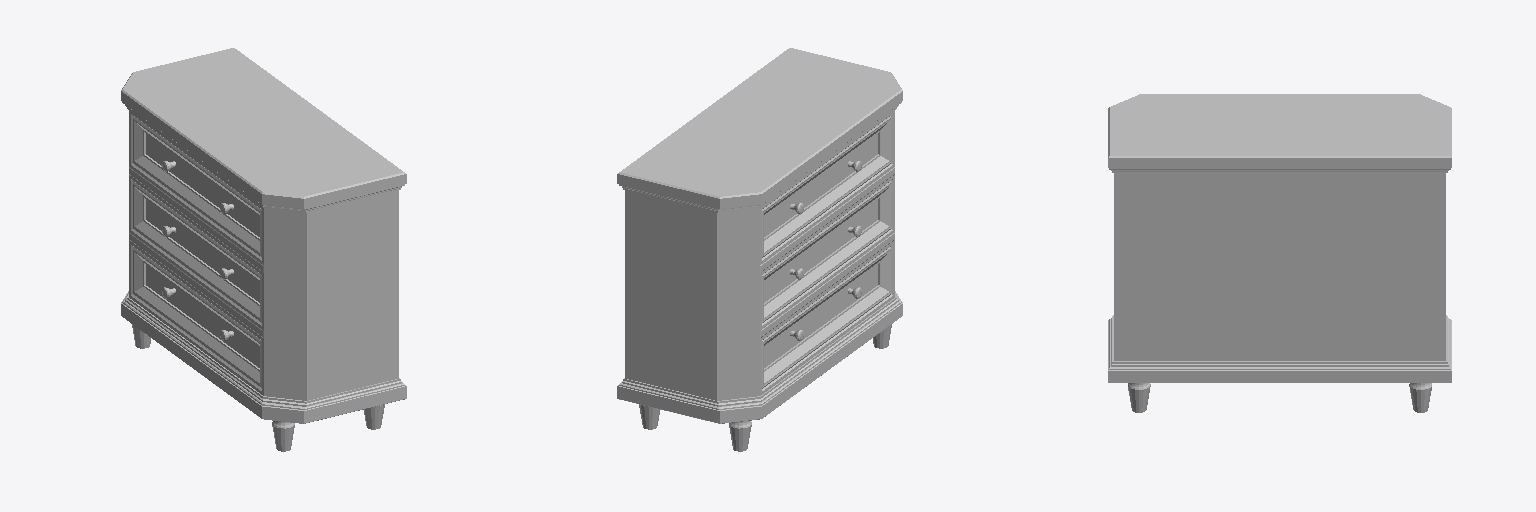
Rendered from dresser.obj.
The picture shows the model from 3 angles: view 1: azimuth 30°, elevation 25°; view 2: azimuth 150°, elevation 25°; view 3: azimuth 270°, elevation 25°; orthographic projection.
Parts seen in each view (by area): view 1: dresser_Cube.005; view 2: dresser_Cube.005; view 3: dresser_Cube.005.
Boxes of the visible parts, box(x1,y1,x2,y2) form: dresser_Cube.005: box(121, 48, 406, 451); dresser_Cube.005: box(617, 48, 902, 451); dresser_Cube.005: box(1108, 94, 1451, 412).
Size of the model in its own units: 3.05 by 5.9 by 7.03.